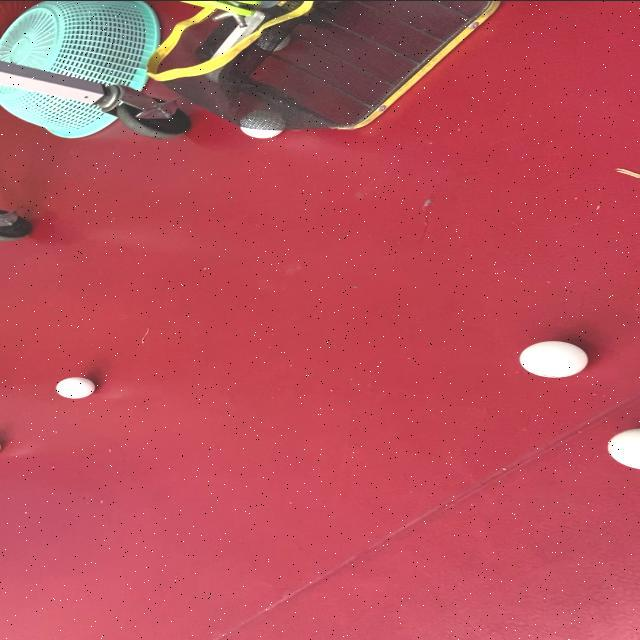ping-pong-ball: (516, 339, 591, 378), (237, 108, 286, 138), (54, 375, 96, 399)
